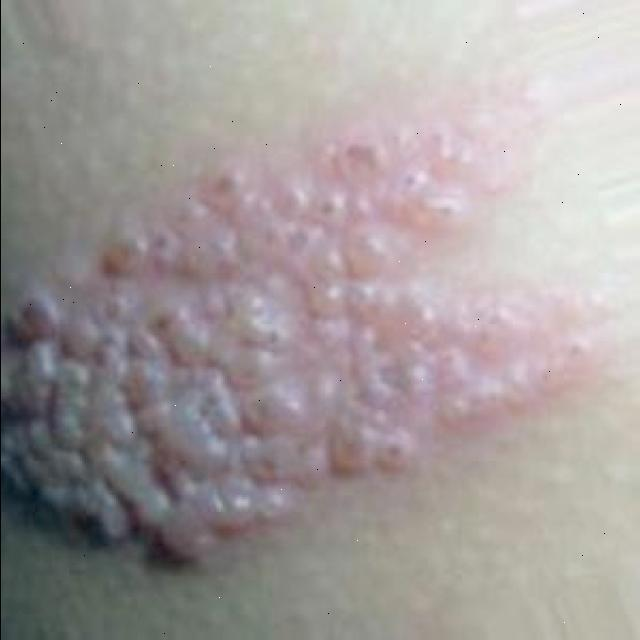Shingles: (0, 126, 593, 568)
